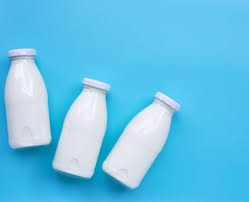milk: (107, 88, 171, 197), (55, 71, 110, 189), (7, 49, 48, 153)
